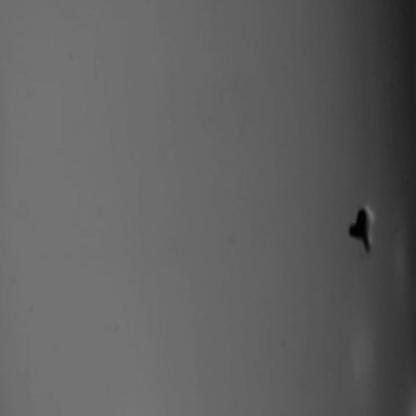kongdong: (334, 193, 391, 260)
